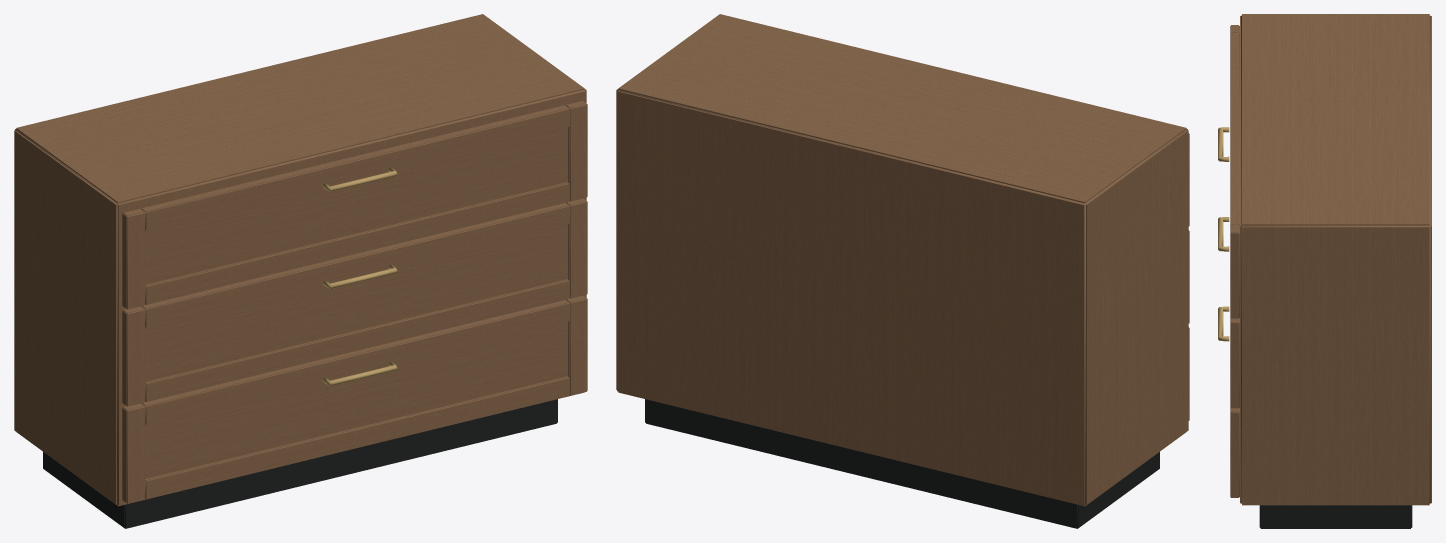
Rendered from traditional.dresser.gltf.
3 renders of one model, left to right at view 1: azimuth 30°, elevation 25°; view 2: azimuth 150°, elevation 25°; view 3: azimuth 270°, elevation 25°, orthographic. The views are drawn at different scales.
Visible parts, largest first — view 1: traditional.dresser.carcass; view 2: traditional.dresser.carcass; view 3: traditional.dresser.carcass.
Part boxes in pixels (left/top/right/bottom): traditional.dresser.carcass: left=14, top=14, right=587, bottom=528; traditional.dresser.carcass: left=616, top=14, right=1189, bottom=528; traditional.dresser.carcass: left=1218, top=14, right=1431, bottom=528.
Size of the model in its own units: 1.15 by 0.79 by 0.49.
Materials: 3 (1 with a texture image).
